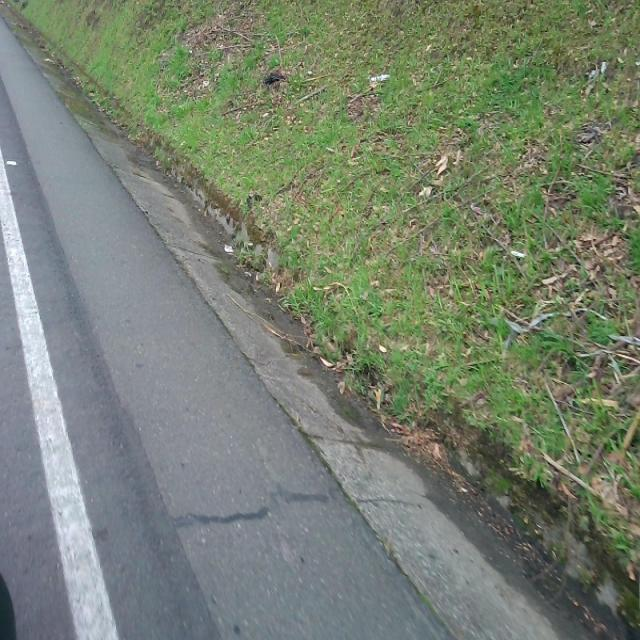DITCH: (1, 4, 638, 638), (2, 3, 635, 637)
